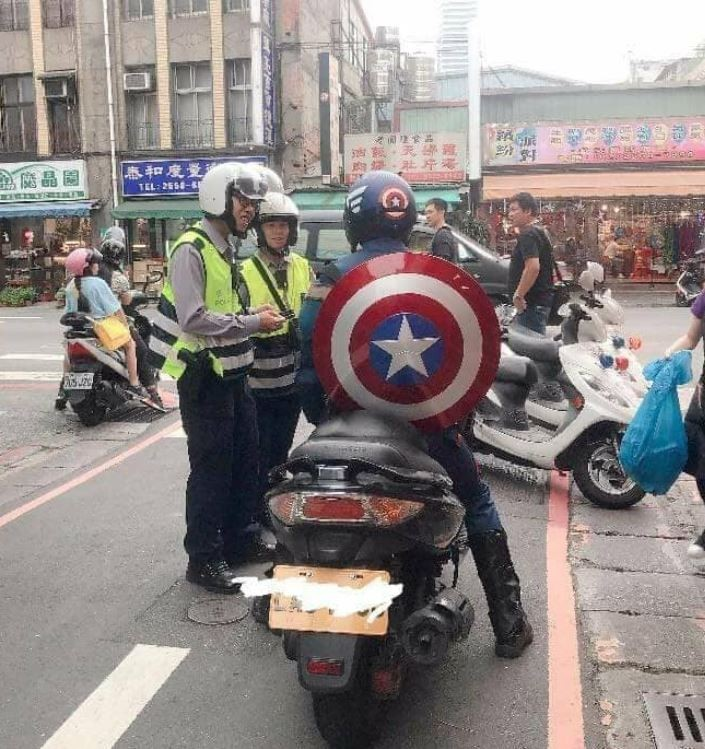helmet: (340, 172, 428, 248), (190, 174, 254, 217)
